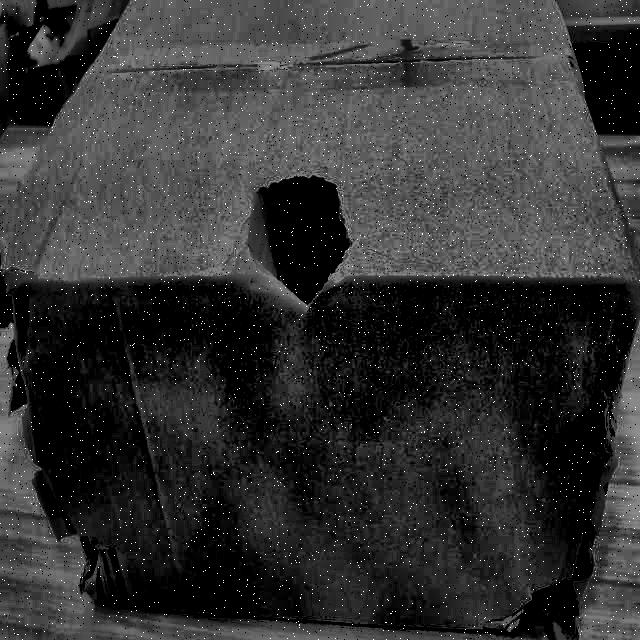box: (1, 0, 640, 639)
hole: (243, 161, 357, 315), (512, 520, 598, 634), (57, 519, 107, 593), (7, 302, 37, 419)
